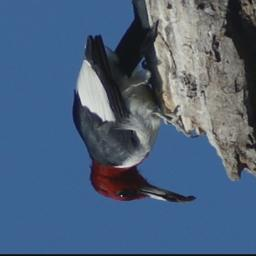Woodpecker: (71, 0, 195, 205)
